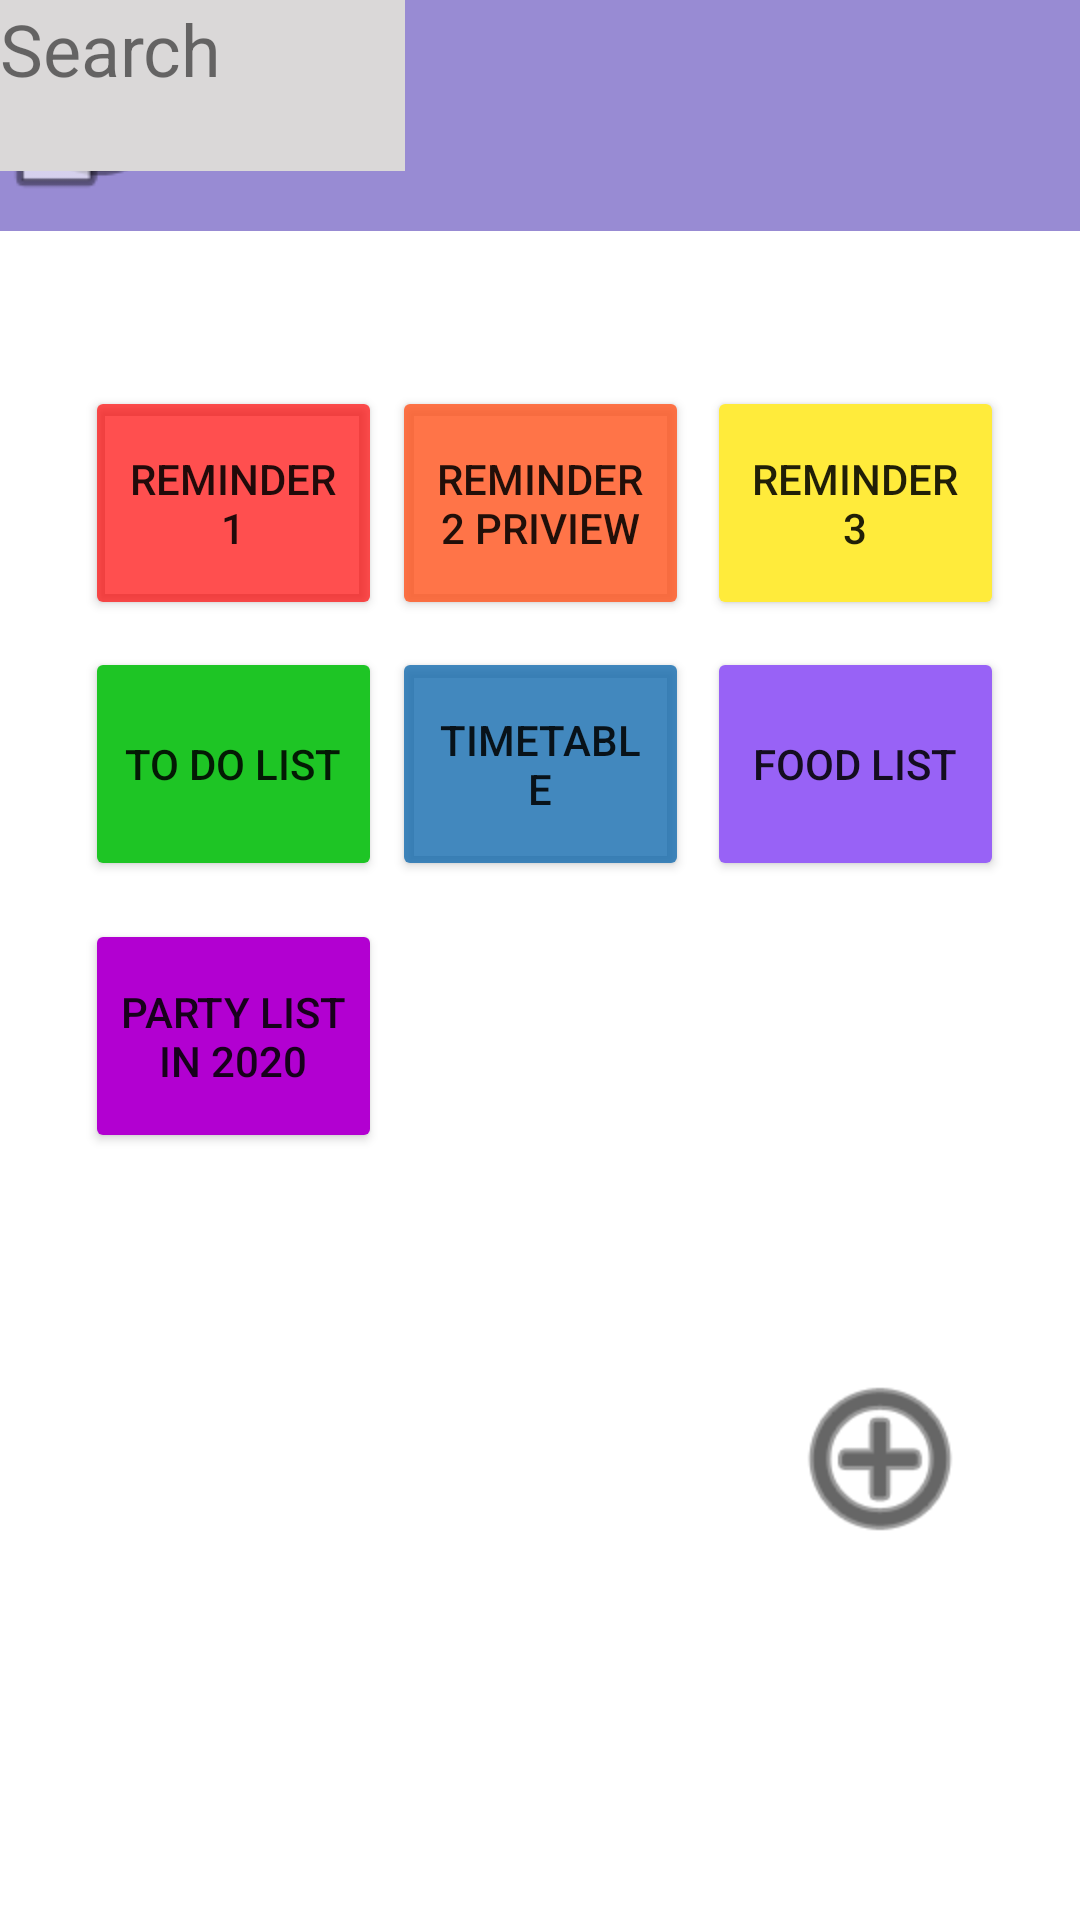

Named icons in this screenshot (1080*1920) and their bounding boxes, (x1, y1, x2, y2):
add new reminder: (808, 1388, 952, 1530)
